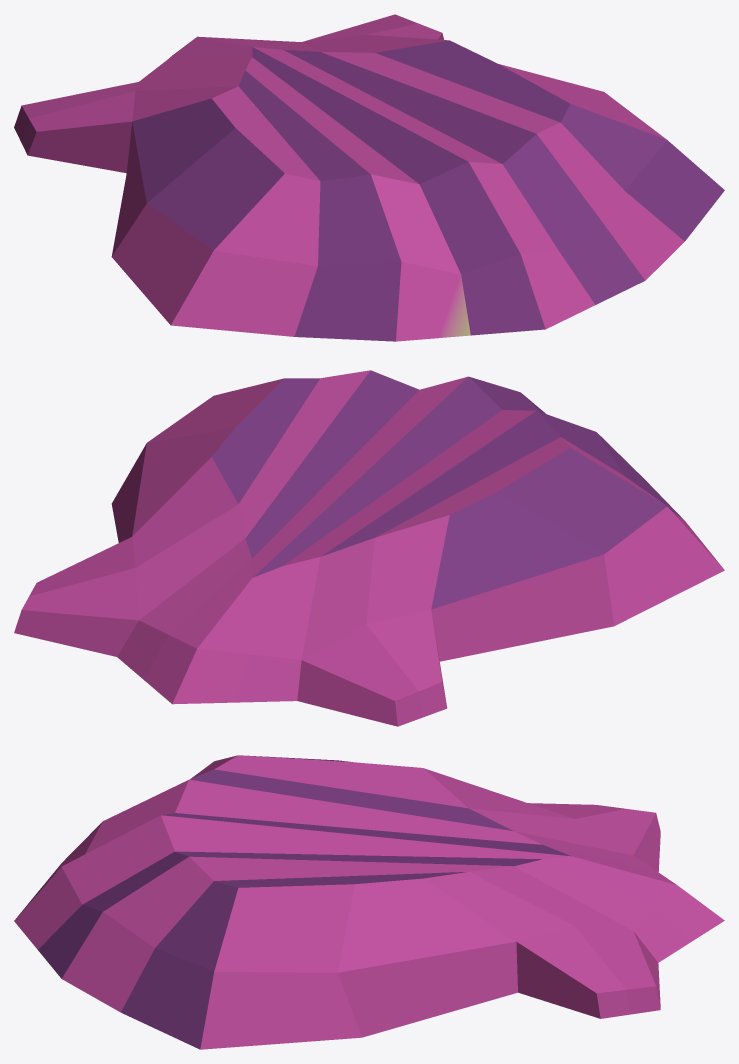
The model's file is Top of pearl clam.fbx.
3 views of the same model, one above another, from view 1: azimuth 30°, elevation 25°; view 2: azimuth 150°, elevation 25°; view 3: azimuth 270°, elevation 25° (orthographic). The views are drawn at different scales.
Parts seen in each view (by area): view 1: Sphere.001; view 2: Sphere.001; view 3: Sphere.001.
Boxes of the visible parts, <box> form: Sphere.001: <box>14,14,724,341</box>; Sphere.001: <box>14,370,724,726</box>; Sphere.001: <box>14,755,724,1049</box>.
Bounding box in the file's own units: 267 × 51.55 × 312.
Materials: 1 (1 with a texture image).
